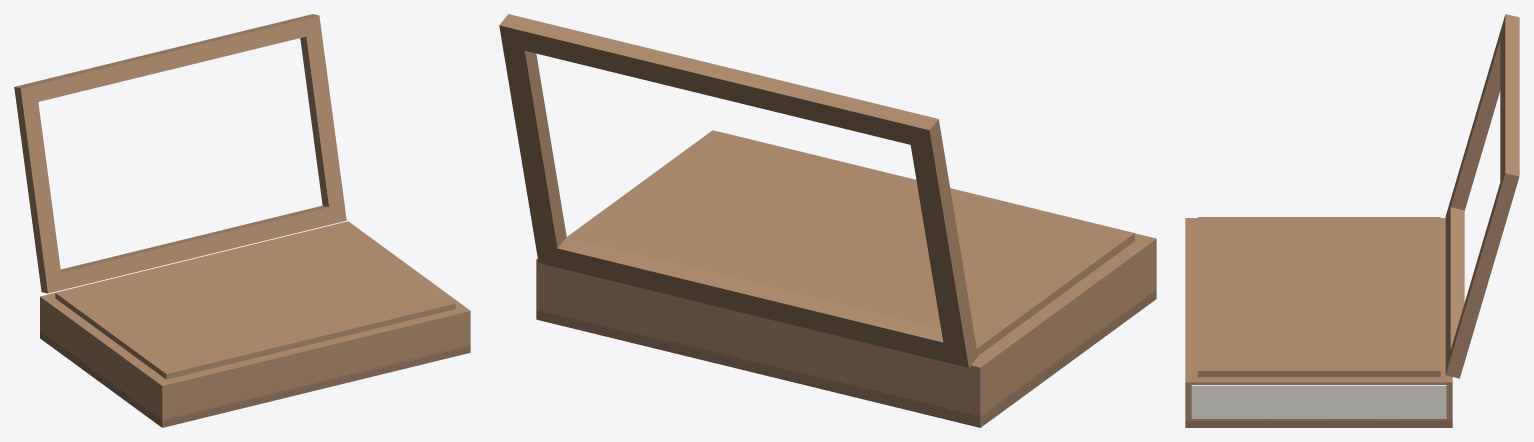
The model's file is case-hidden.glb.
3 views of the same model, side by side, from view 1: azimuth 30°, elevation 25°; view 2: azimuth 150°, elevation 25°; view 3: azimuth 270°, elevation 25° (orthographic). The views are drawn at different scales.
Visible parts, largest first — view 1: geometry_1, geometry_0, geometry_4, geometry_5, geometry_7, geometry_6, geometry_2; view 2: geometry_1, geometry_0, geometry_4, geometry_5, geometry_6, geometry_2, geometry_7; view 3: geometry_1, geometry_3, geometry_0, geometry_4, geometry_7, geometry_5, geometry_6, geometry_2.
Part boxes in pixels (x1,y1,x2,y2): geometry_1: (55,222,455,379); geometry_0: (40,221,470,421); geometry_4: (14,14,321,105); geometry_5: (41,203,346,293); geometry_7: (298,14,346,223); geometry_6: (16,83,63,292); geometry_2: (40,330,470,427); geometry_1: (572,131,1134,355); geometry_0: (536,130,1156,417); geometry_4: (499,14,941,150); geometry_5: (535,237,977,367); geometry_6: (907,114,977,367); geometry_2: (536,290,1156,427); geometry_7: (499,14,566,267); geometry_1: (1197,217,1440,377); geometry_3: (1191,385,1446,418); geometry_0: (1185,218,1452,420); geometry_4: (1500,14,1519,193); geometry_7: (1446,165,1519,377); geometry_5: (1445,200,1464,378); geometry_6: (1445,14,1519,218); geometry_2: (1185,419,1452,427).
Bounding box in the file's own units: 0.322 × 0.2291 × 0.275.
